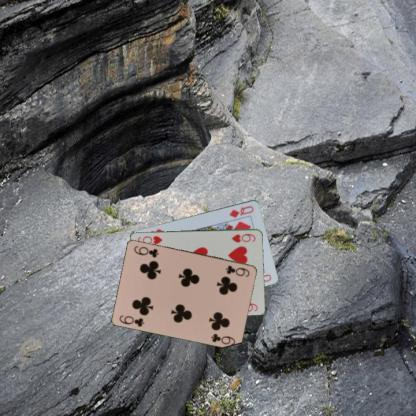6c: (116, 312, 146, 328), (223, 262, 251, 278)
6h: (230, 231, 257, 244)
Qd: (227, 203, 255, 219)
